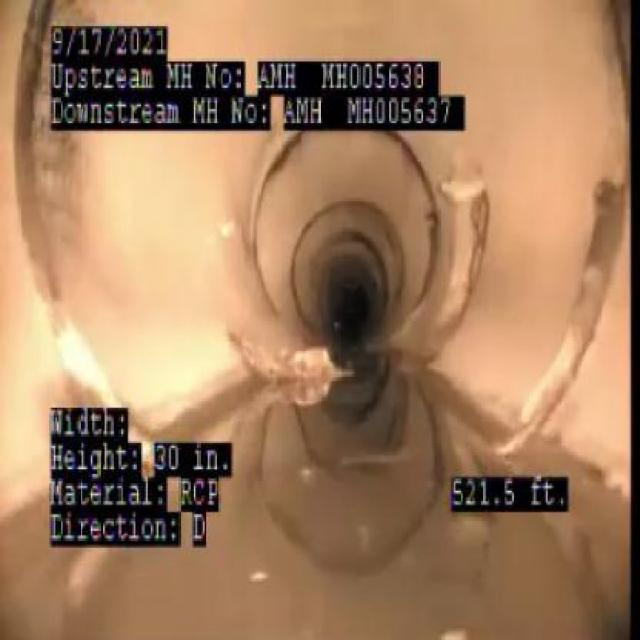Debris: (258, 318, 352, 397)
